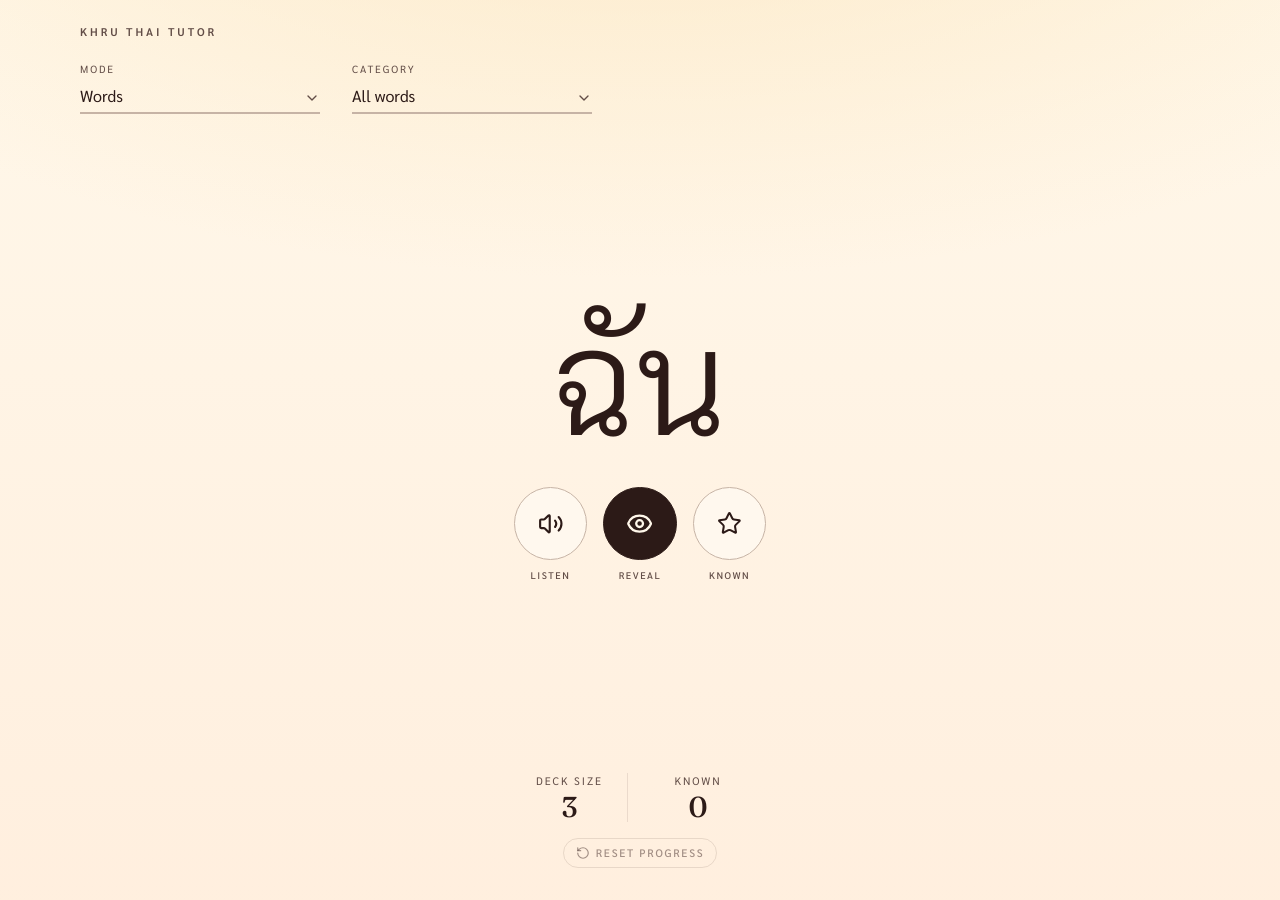
Test case: App › resets category, reveal state, and current card when switching modes
Click the button named "reveal": [640, 524] box [603, 487, 677, 560]
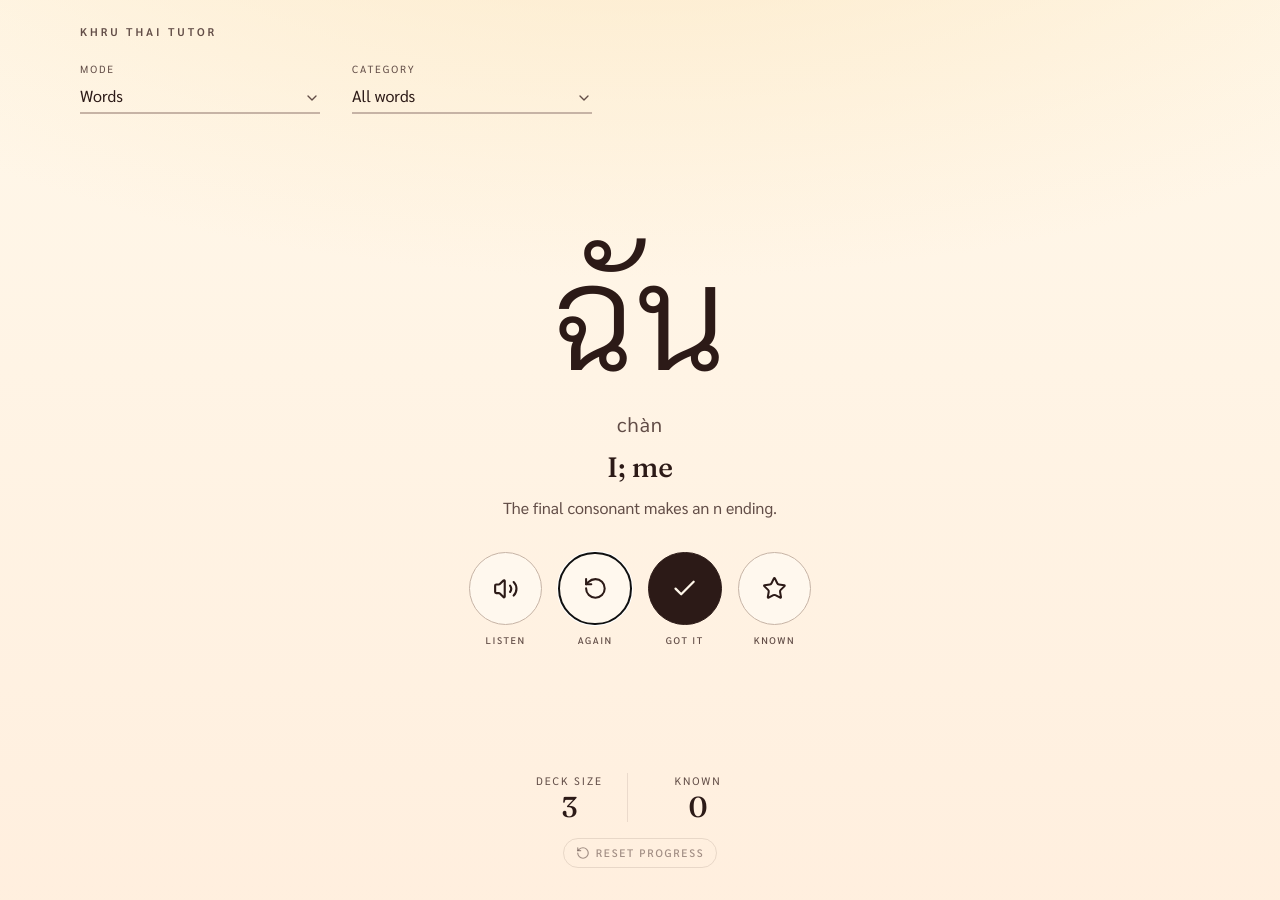
Select "Signs" in the dropdown named "study category": [472, 97] box [352, 80, 592, 114]
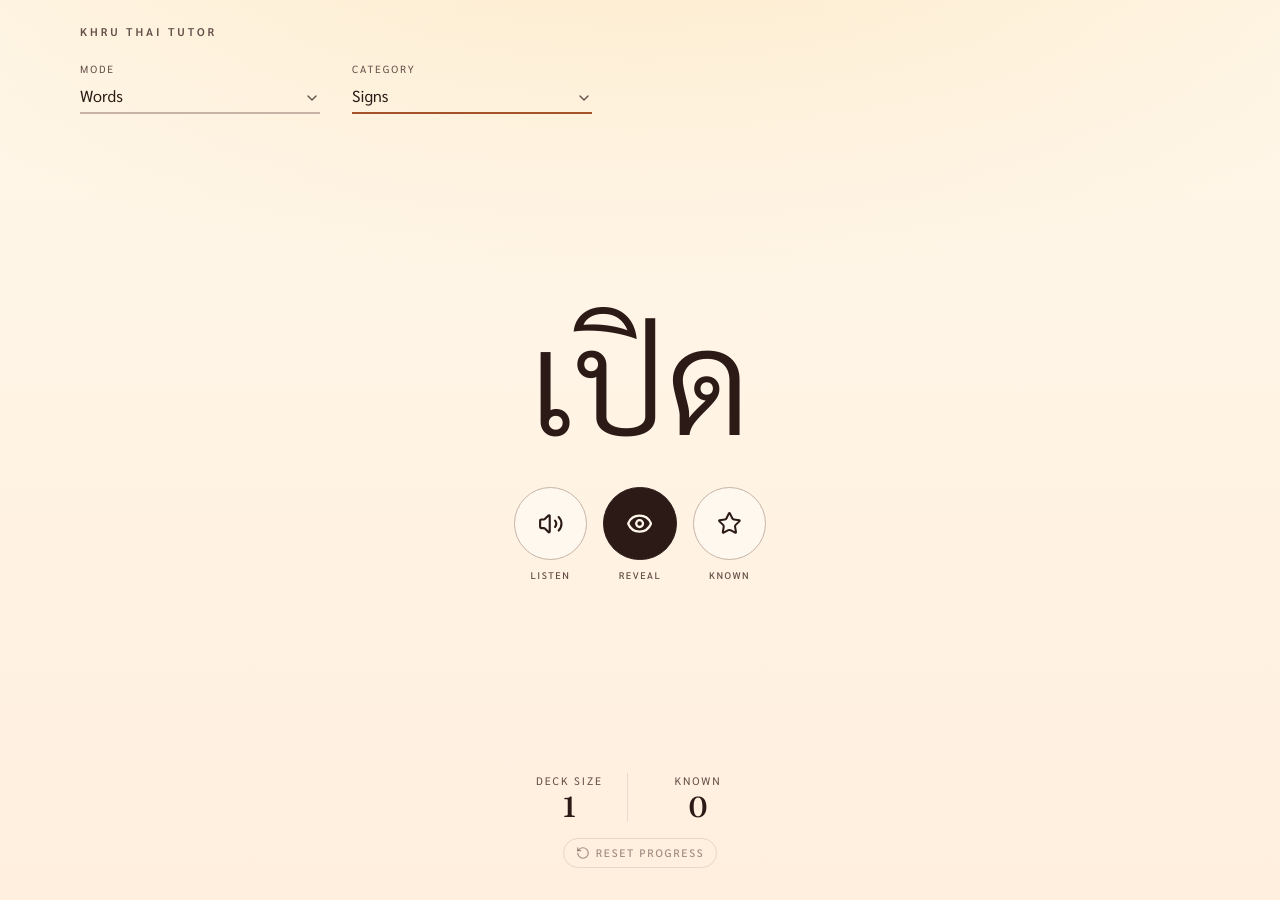
Expected: the text "เปิด" is shown, [529, 296, 751, 455]
Select "Conversation" in the dropdown named "study mode": [200, 97] box [80, 80, 320, 114]
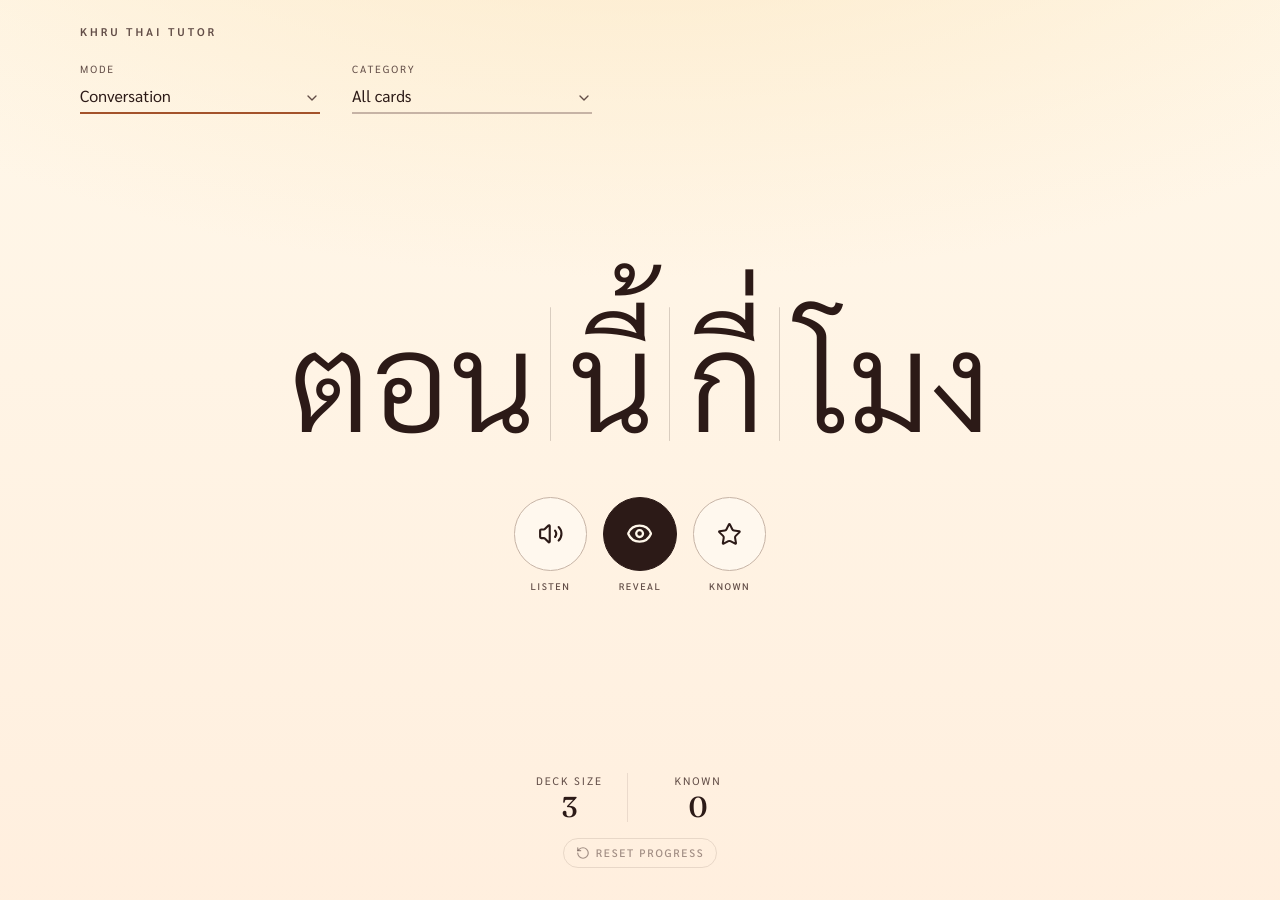
Expected: the text "เปิด" is gone
